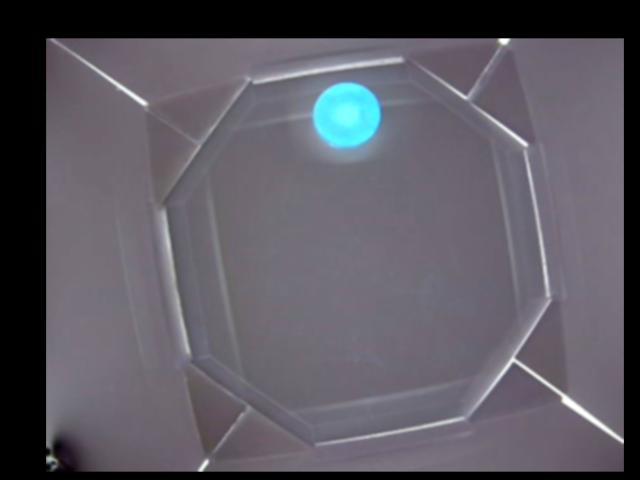Carrot: (314, 82, 381, 147)
